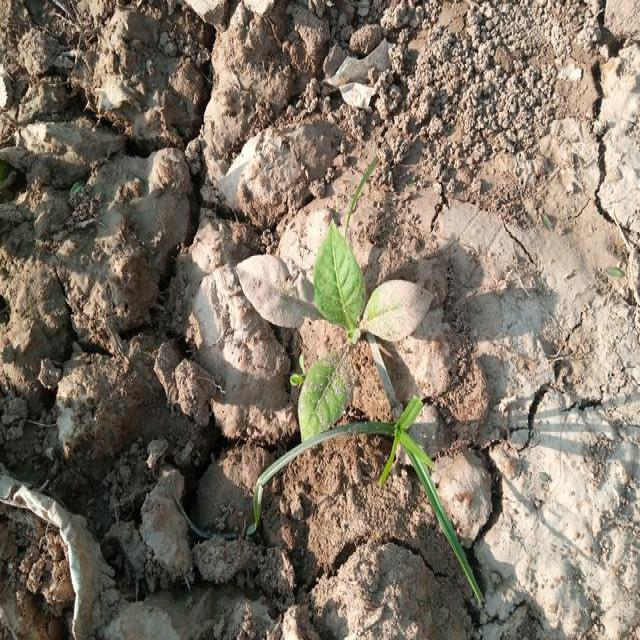crop: (296, 215, 432, 444)
